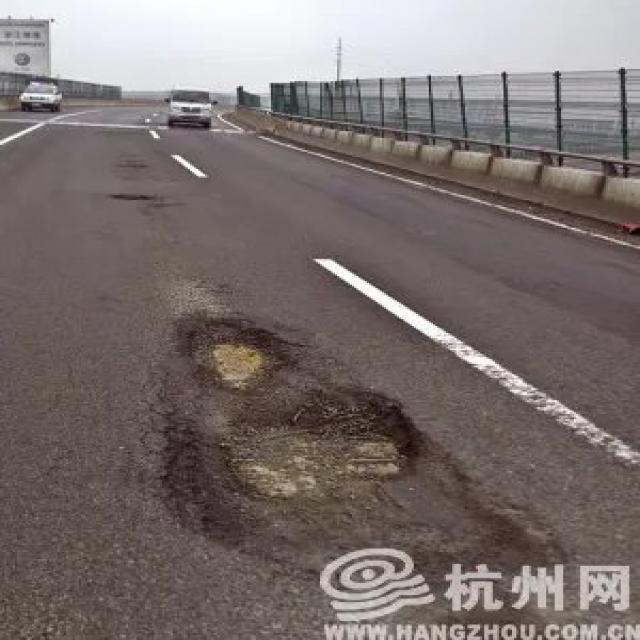Pothole: (149, 395, 532, 573), (182, 316, 278, 392), (113, 188, 179, 207)
